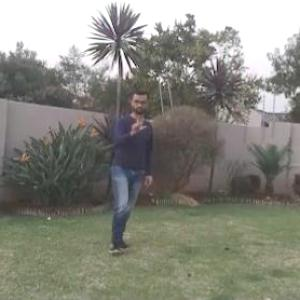land_hand: (126, 110, 150, 139)
